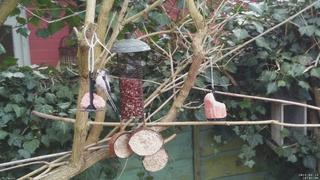long tailed tit: (94, 69, 119, 116)
